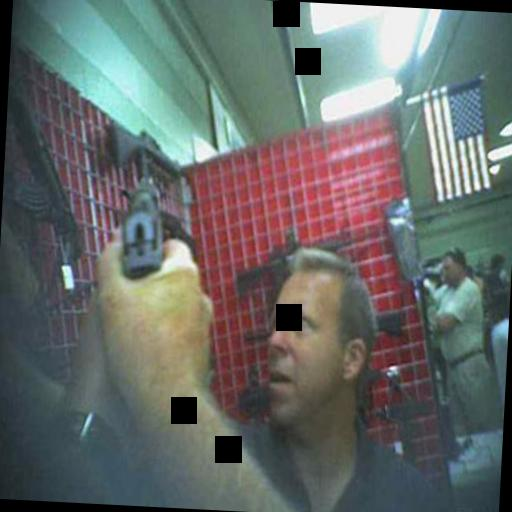Handgun: (104, 168, 176, 280)
